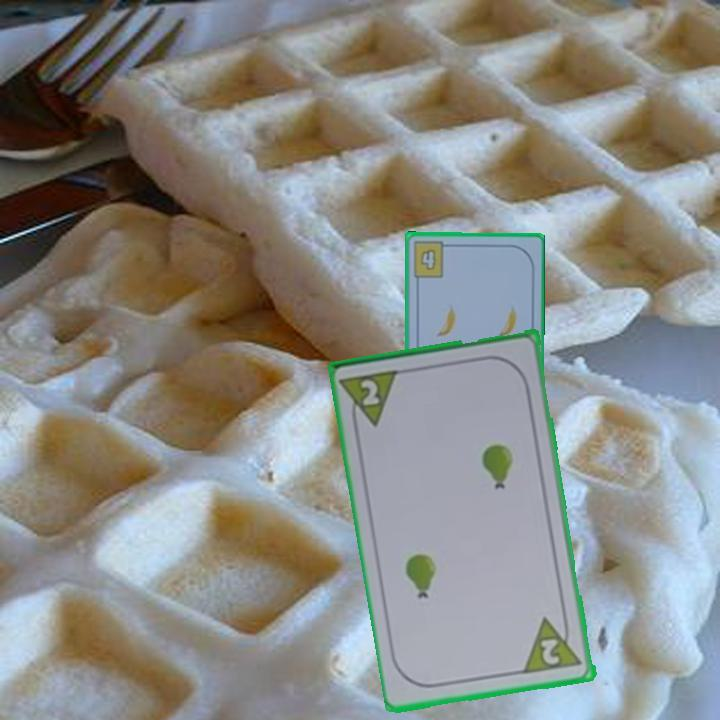2p: (521, 611, 586, 678), (339, 366, 404, 433)
4b: (409, 238, 453, 280)
